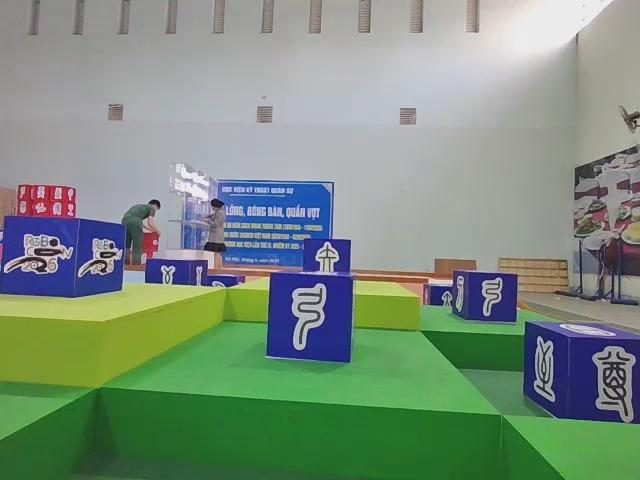R1 Blue: (0, 216, 125, 301)
R2 Fake Blue: (522, 322, 638, 426), (264, 271, 355, 366), (452, 269, 519, 323), (305, 239, 353, 277)
R2 Real Blue: (148, 258, 210, 287), (421, 282, 453, 306)
